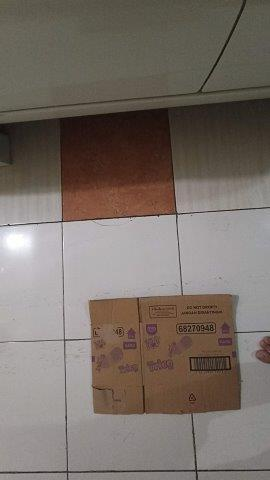kardus: (90, 295, 240, 413)
